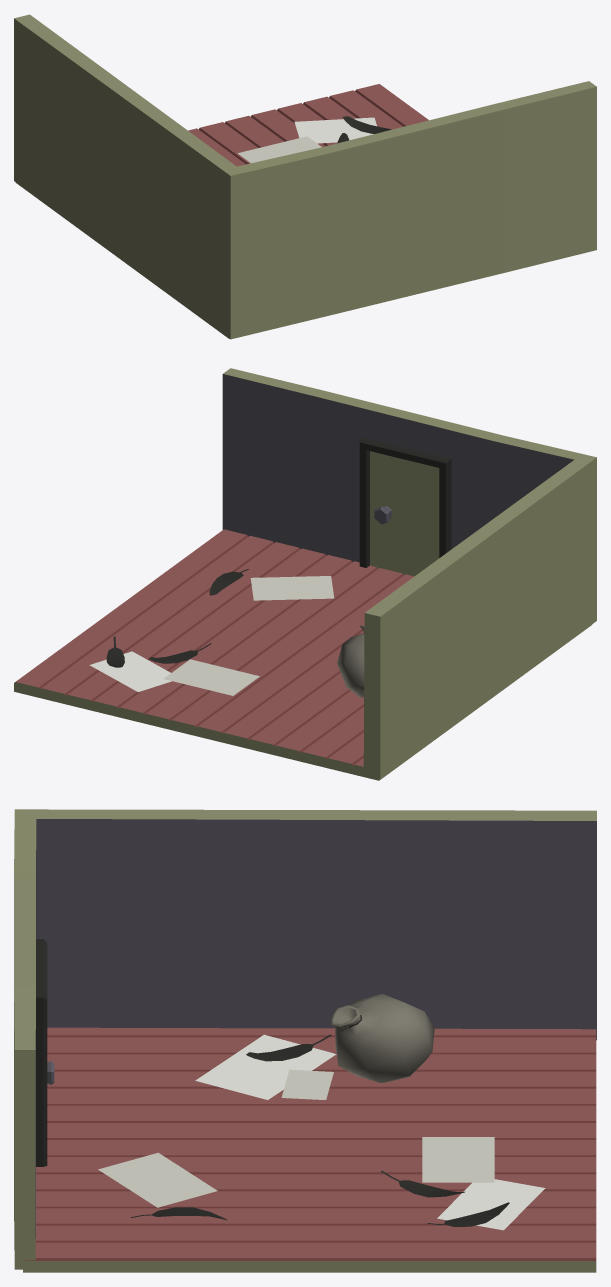
Rendered from secretroom1.fbx.
3 views of the same model, one above another, from view 1: azimuth 30°, elevation 25°; view 2: azimuth 150°, elevation 25°; view 3: azimuth 270°, elevation 25° (orthographic). The views are drawn at different scales.
Visible parts, largest first — view 1: secretroom1; view 2: secretroom1; view 3: secretroom1.
Boxes of the visible parts, x1,y1,x2,y2 form: secretroom1: [14, 14, 596, 339]; secretroom1: [14, 368, 596, 780]; secretroom1: [14, 809, 596, 1272].
Bounding box in the file's own units: 563 × 246 × 576.
